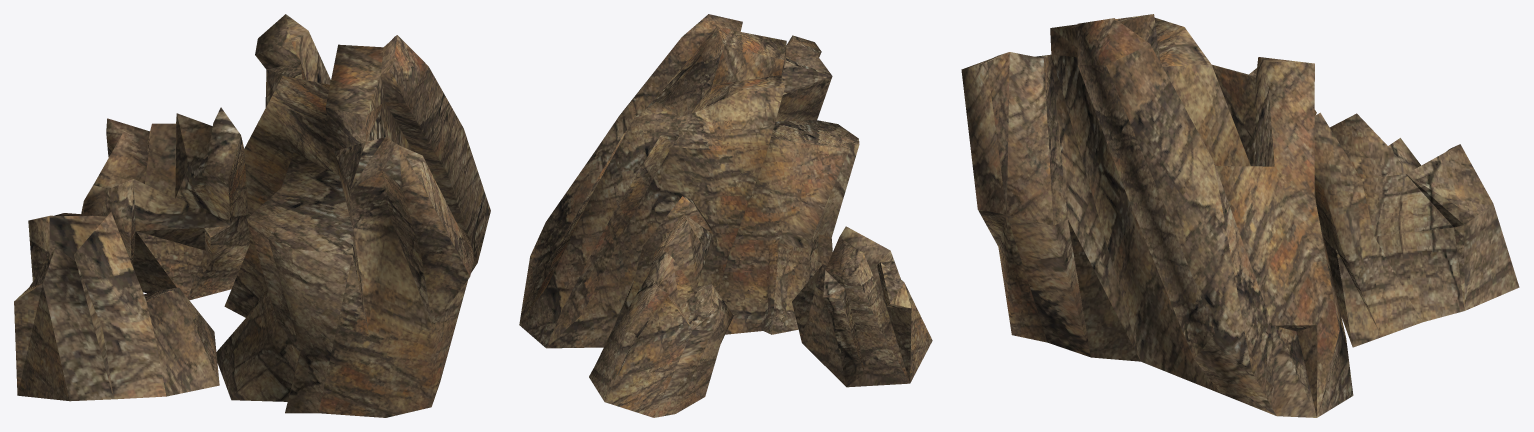
The model's file is mine_stonemine_india_large.glb.
3 views of the same model, side by side, from view 1: azimuth 30°, elevation 25°; view 2: azimuth 150°, elevation 25°; view 3: azimuth 270°, elevation 25° (orthographic). The views are drawn at different scales.
Parts seen in each view (by area): view 1: mine_stonemine_india_large_part0; view 2: mine_stonemine_india_large_part0; view 3: mine_stonemine_india_large_part0.
Boxes of the visible parts, x1=… form: mine_stonemine_india_large_part0: x1=14, y1=14, x2=490, y2=417; mine_stonemine_india_large_part0: x1=519, y1=14, x2=932, y2=417; mine_stonemine_india_large_part0: x1=961, y1=14, x2=1519, y2=417.
Size of the model in its own units: 4.74 by 3.37 by 4.96.
1 material, 1 textured.
